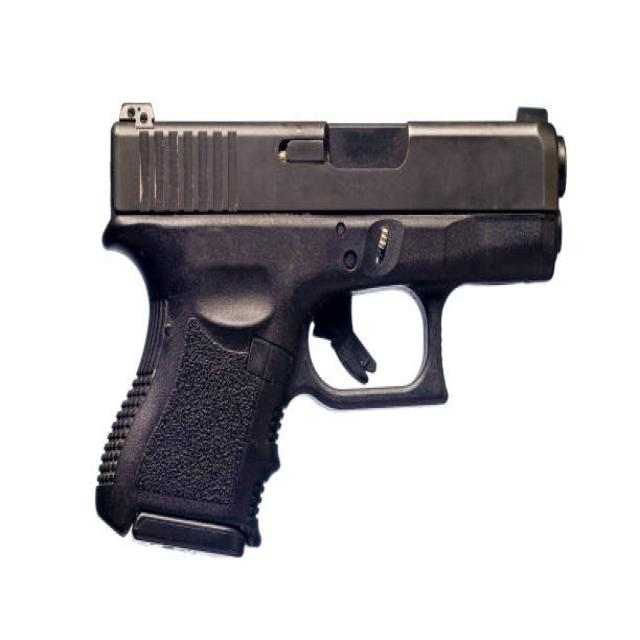pistol: (92, 94, 575, 571)
